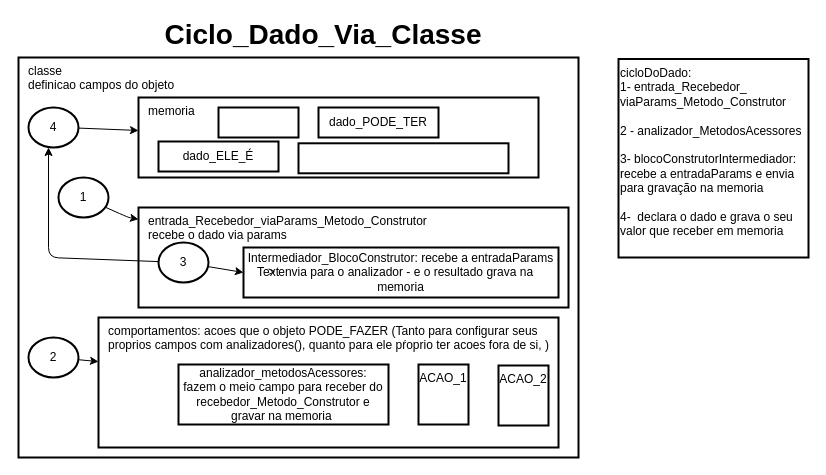
Image size: 826x475. Some labels were removed from this diagram. Each missing label, with the centre of its shape:
dado_RESULTADO_COMPUTADO: (403,158)
dado_TEM: (258,122)
